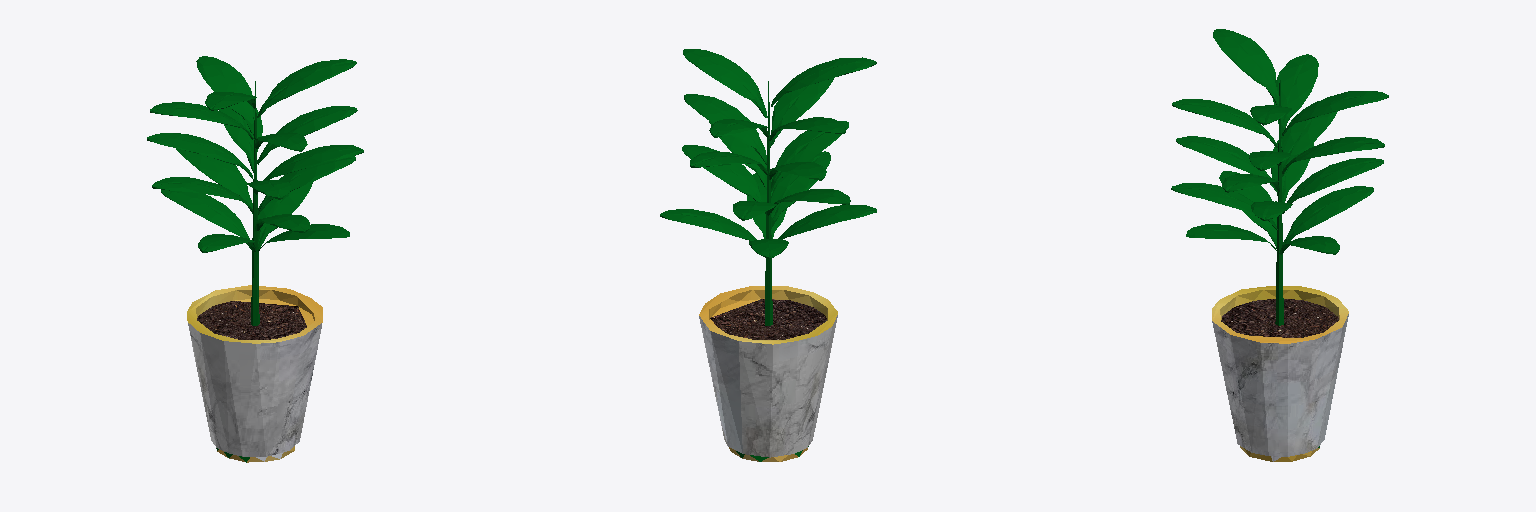
The picture shows the model from 3 angles: view 1: azimuth 30°, elevation 25°; view 2: azimuth 150°, elevation 25°; view 3: azimuth 270°, elevation 25°; orthographic projection.
Parts seen in each view (by area): view 1: Cilindro; view 2: Cilindro; view 3: Cilindro.
Part boxes in pixels (left/top/right/bottom): Cilindro: left=147, top=56, right=363, bottom=462; Cilindro: left=660, top=49, right=876, bottom=461; Cilindro: left=1171, top=29, right=1388, bottom=461.
Bounding box in the file's own units: 9.98 × 19.52 × 10.14.
Materials: 4 (4 with a texture image).